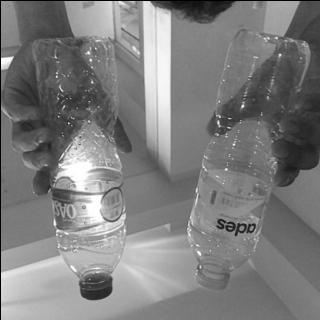plastic_bottles: (189, 35, 307, 288), (34, 41, 127, 300)
